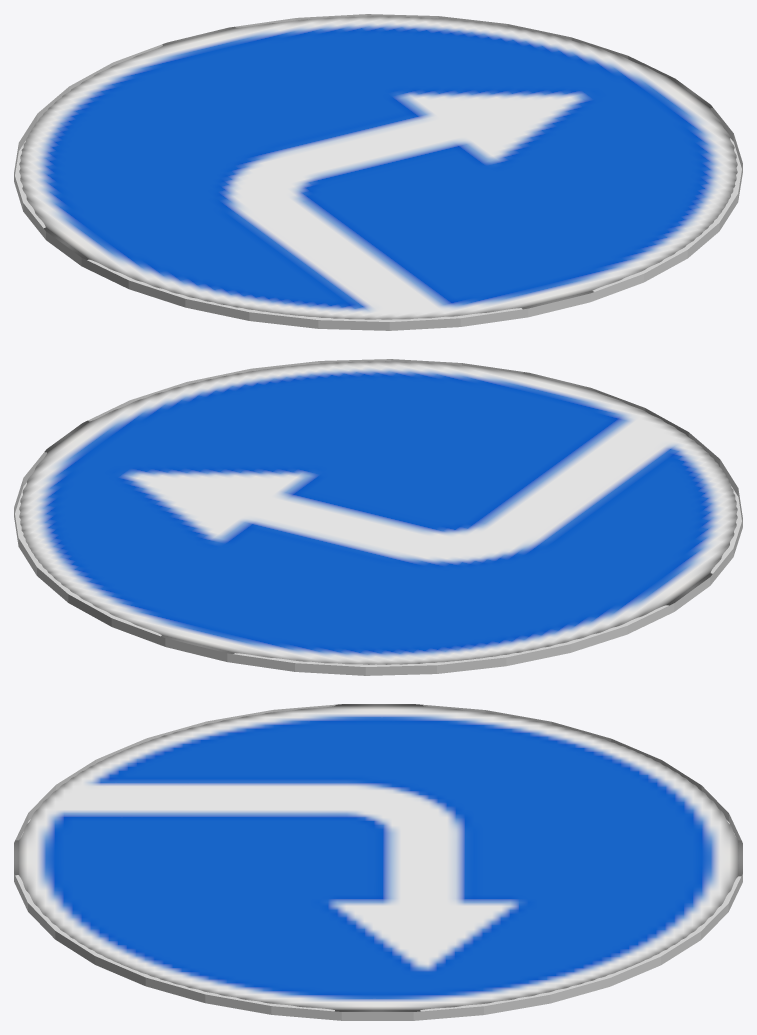
The model's file is right.dae.
3 views of the same model, one above another, from view 1: azimuth 30°, elevation 25°; view 2: azimuth 150°, elevation 25°; view 3: azimuth 270°, elevation 25° (orthographic).
Parts seen in each view (by area): view 1: Cylinder; view 2: Cylinder; view 3: Cylinder.
Part boxes in pixels (x1,y1,x2,y2): Cylinder: (14, 14, 742, 330); Cylinder: (14, 359, 742, 675); Cylinder: (14, 704, 742, 1020).
Size of the model in its own units: 0.1493 by 0.1493 by 0.002.
Materials: 2 (1 with a texture image).
